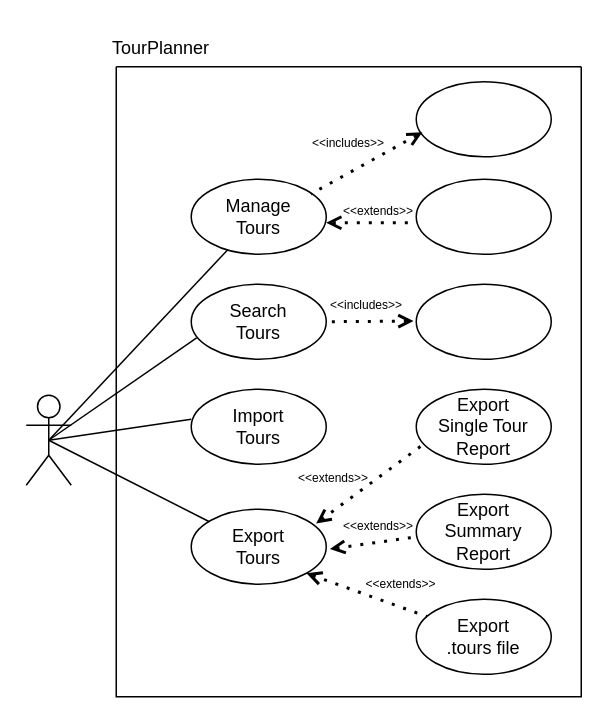
Image size: 608x723. Some labels were removed from this diagram. The box of each missing label's shape, as (x1, y1, x2, y2) in pixels:
Actor: (25, 394, 71, 485)
Calculate Route: (415, 80, 551, 157)
Manage Tour Logs: (415, 178, 551, 254)
Search TourLogs: (415, 283, 551, 359)
